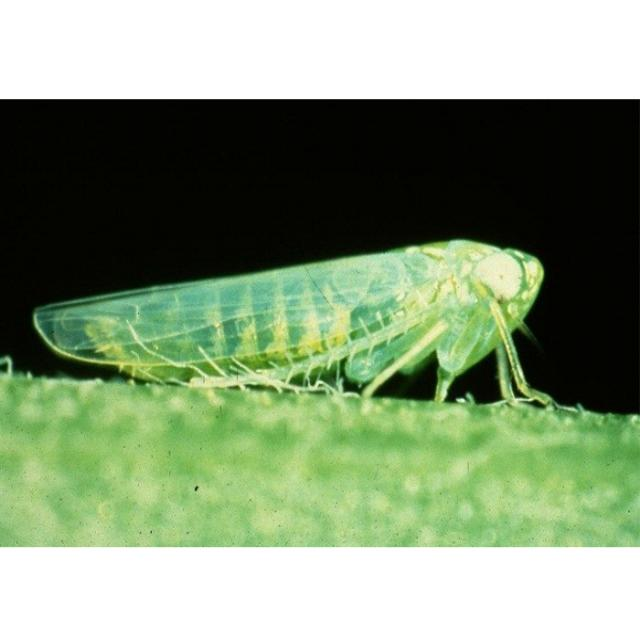Yechan: (27, 202, 590, 434)
